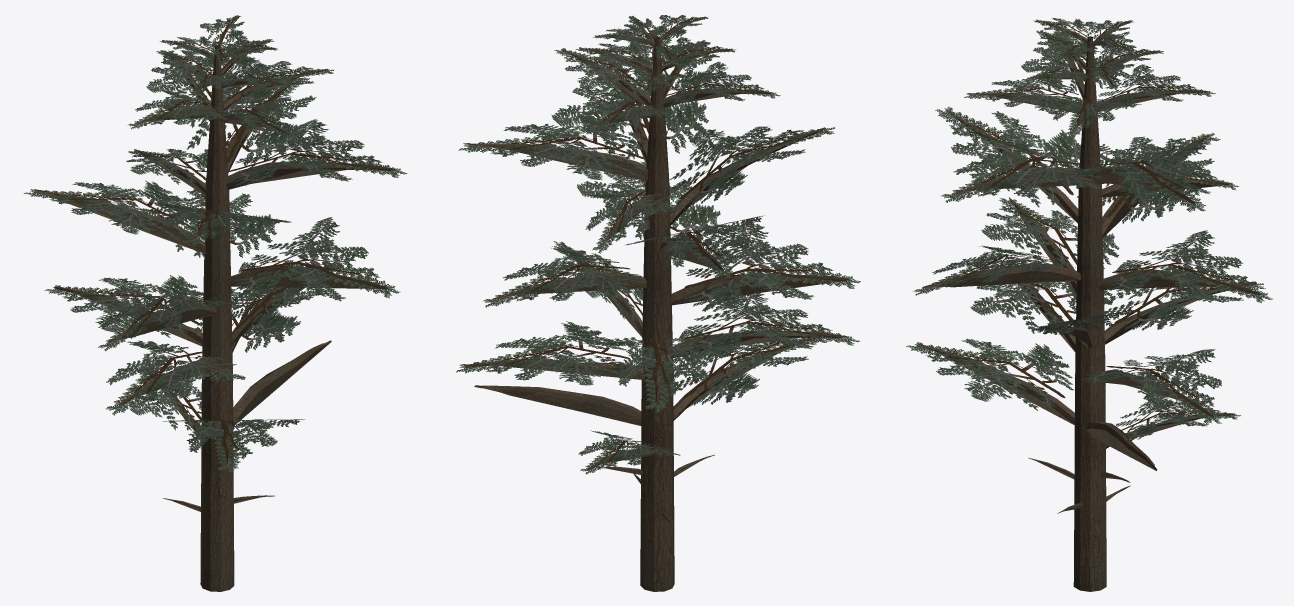
File: Tree03.fbx
3 renders of one model, left to right at view 1: azimuth 30°, elevation 25°; view 2: azimuth 150°, elevation 25°; view 3: azimuth 270°, elevation 25°, orthographic.
Visible parts, largest first — view 1: Tree3; view 2: Tree3; view 3: Tree3.
Boxes of the visible parts, x1,y1,x2,y2 form: Tree3: (23,15,407,591); Tree3: (456,15,860,591); Tree3: (906,18,1272,591).
Bounding box in the file's own units: 8.92 × 14.8 × 9.19.
